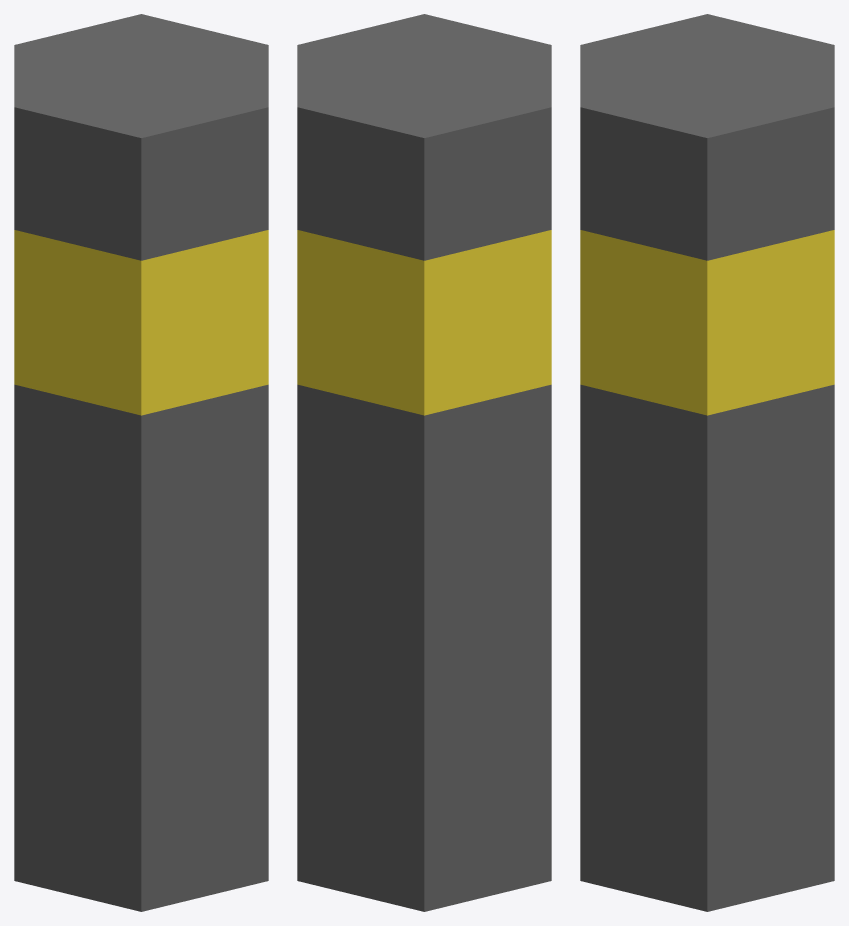
Rendered from ludeng_02.FBX.
The picture shows the model from 3 angles, left to right: view 1: azimuth 30°, elevation 25°; view 2: azimuth 150°, elevation 25°; view 3: azimuth 270°, elevation 25°; orthographic projection.
Parts seen in each view (by area): view 1: ludeng_02; view 2: ludeng_02; view 3: ludeng_02.
Boxes of the visible parts, x1,y1,x2,y2 form: ludeng_02: [14, 14, 268, 911]; ludeng_02: [297, 14, 551, 911]; ludeng_02: [580, 14, 834, 911].
Bounding box in the file's own units: 45.46 × 132 × 39.37.
